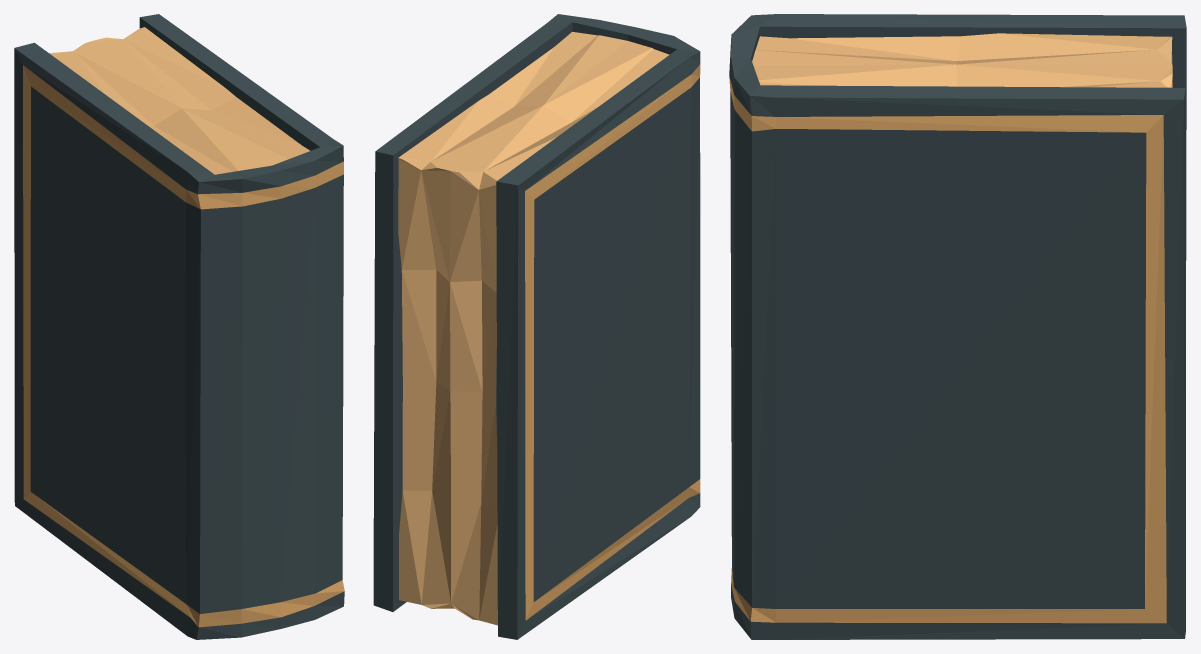
Rendered from SFHW_Book_020.fbx.
3 views of the same model, side by side, from view 1: azimuth 30°, elevation 25°; view 2: azimuth 150°, elevation 25°; view 3: azimuth 270°, elevation 25° (orthographic). The views are drawn at different scales.
Parts seen in each view (by area): view 1: SFHW_Book_020; view 2: SFHW_Book_020; view 3: SFHW_Book_020.
Part boxes in pixels (left/top/right/bottom): SFHW_Book_020: left=14, top=14, right=344, bottom=639; SFHW_Book_020: left=373, top=14, right=700, bottom=639; SFHW_Book_020: left=729, top=14, right=1186, bottom=639.
Size of the model in its own units: 10.63 by 31.55 by 23.99.
